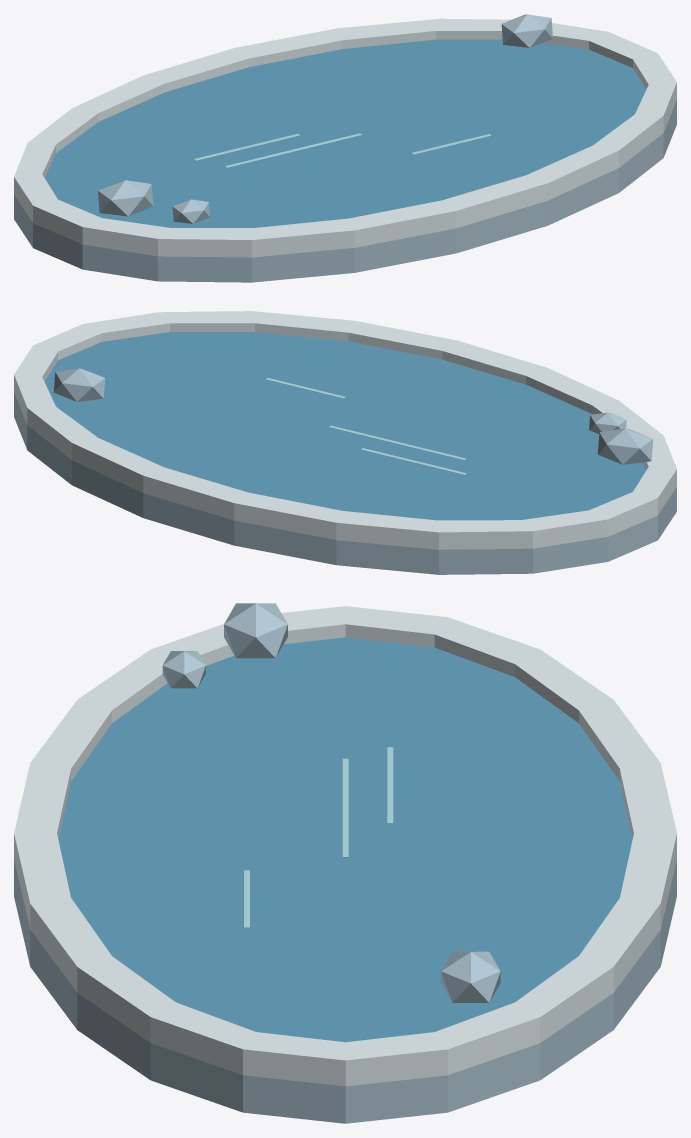
File: campus_pond.glb
The picture shows the model from 3 angles, top to bottom: view 1: azimuth 30°, elevation 25°; view 2: azimuth 150°, elevation 25°; view 3: azimuth 270°, elevation 25°; orthographic projection. The views are drawn at different scales.
Visible parts, largest first — view 1: campus_pond; view 2: campus_pond; view 3: campus_pond.
Part boxes in pixels (x1=…): campus_pond: x1=14, y1=14, x2=676, y2=282; campus_pond: x1=14, y1=311, x2=676, y2=574; campus_pond: x1=14, y1=603, x2=676, y2=1123.
Bounding box in the file's own units: 6 × 0.686 × 3.7.
1 material, 1 textured.
